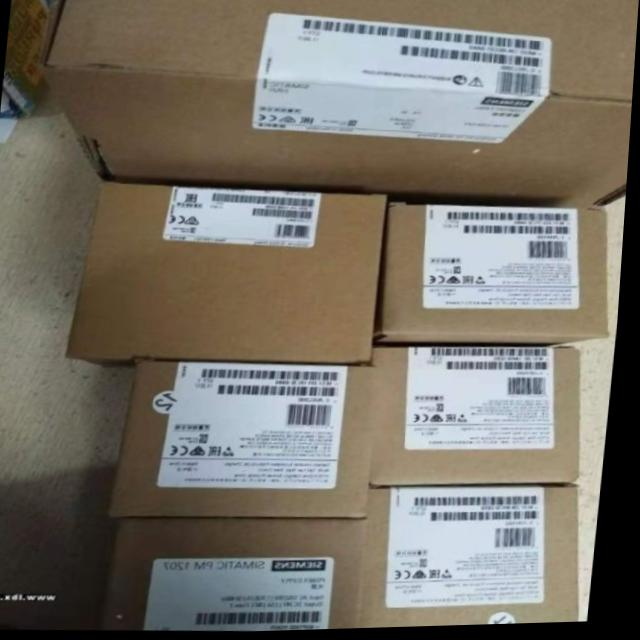box: (41, 0, 639, 210), (70, 183, 390, 368), (114, 361, 380, 523), (381, 204, 614, 350), (367, 489, 585, 631), (107, 518, 374, 632), (375, 348, 585, 487), (1, 0, 50, 116)
